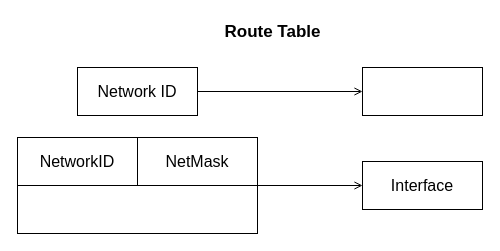
Some shapes in this 500 by 251 pixel diagram are drawn without their labels. Each missing label, with the centre of its shape:
CIDR: pixel 137 209
Next Hop: pixel 422 91
